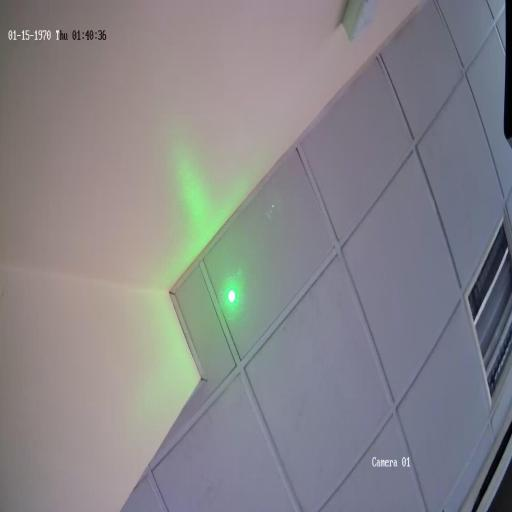laser: (224, 283, 238, 311)
